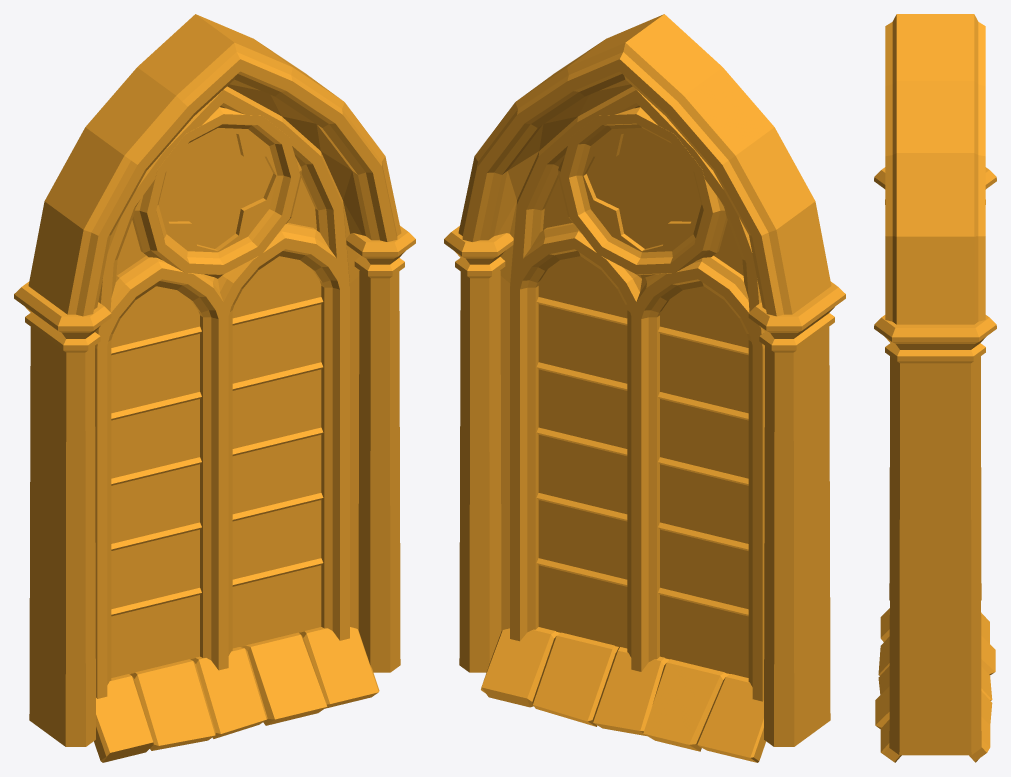
File: SM_Window_Stone_Tall_A_Fantasy.fbx
3 views of the same model, side by side, from view 1: azimuth 30°, elevation 25°; view 2: azimuth 150°, elevation 25°; view 3: azimuth 270°, elevation 25° (orthographic).
Parts seen in each view (by area): view 1: SM_Window_Stone_Tall_A_Fantasy; view 2: SM_Window_Stone_Tall_A_Fantasy; view 3: SM_Window_Stone_Tall_A_Fantasy.
Boxes of the visible parts, left/top/right/bottom form: SM_Window_Stone_Tall_A_Fantasy: left=14, top=14, right=415, bottom=762; SM_Window_Stone_Tall_A_Fantasy: left=444, top=14, right=845, bottom=762; SM_Window_Stone_Tall_A_Fantasy: left=874, top=14, right=996, bottom=762.
Size of the model in its own units: 2.49 by 4.59 by 0.7452.
